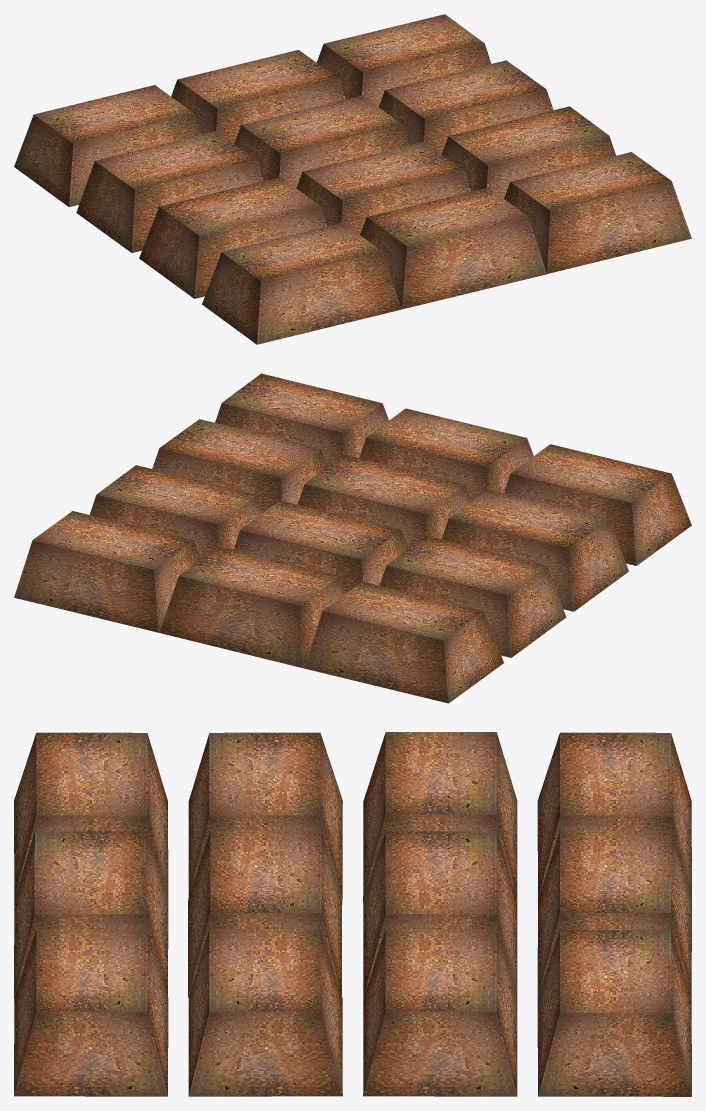
The model's file is iron_layer_1.glb.
3 renders of one model, top to bottom at view 1: azimuth 30°, elevation 25°; view 2: azimuth 150°, elevation 25°; view 3: azimuth 270°, elevation 25°, orthographic. The views are drawn at different scales.
Visible parts, largest first — view 1: iron01.001; view 2: iron01.001; view 3: iron01.001.
Boxes of the visible parts, x1,y1,x2,y2 form: iron01.001: (14,14,691,344); iron01.001: (14,373,691,703); iron01.001: (14,732,691,1096).
Bounding box in the file's own units: 189 × 22.94 × 183.
Materials: 1 (1 with a texture image).
